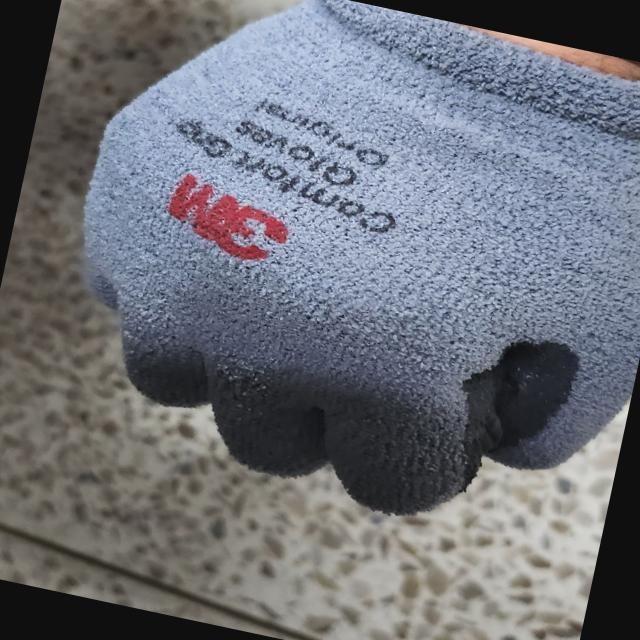Gloves: (83, 7, 631, 506)
